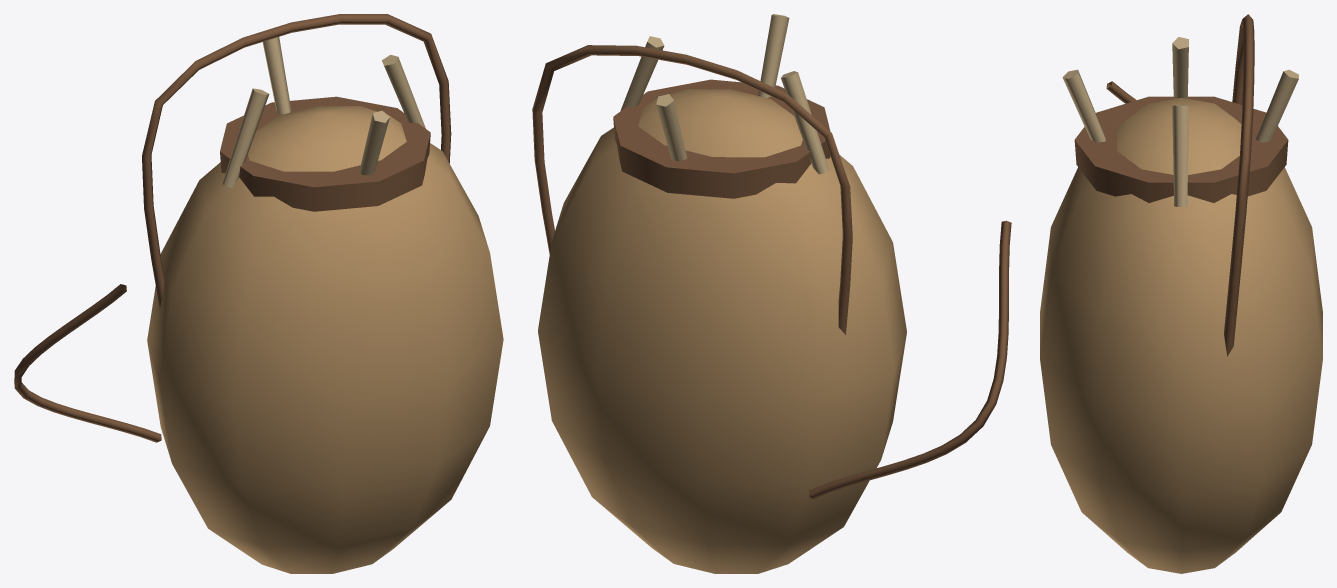
The model's file is load_settler.glb.
3 views of the same model, side by side, from view 1: azimuth 30°, elevation 25°; view 2: azimuth 150°, elevation 25°; view 3: azimuth 270°, elevation 25° (orthographic). The views are drawn at different scales.
Parts seen in each view (by area): view 1: part_0, part_1, part_2; view 2: part_0, part_1, part_2; view 3: part_0, part_1, part_2.
Boxes of the visible parts, x1,y1,x2,y2 form: part_0: [147, 106, 503, 573]; part_1: [14, 14, 451, 442]; part_2: [222, 37, 425, 188]; part_0: [538, 89, 906, 573]; part_1: [532, 45, 1011, 499]; part_2: [620, 14, 829, 174]; part_0: [1040, 98, 1322, 573]; part_1: [1074, 14, 1288, 356]; part_2: [1062, 37, 1298, 206].
Bounding box in the file's own units: 0.3238 × 0.3541 × 0.1764.
